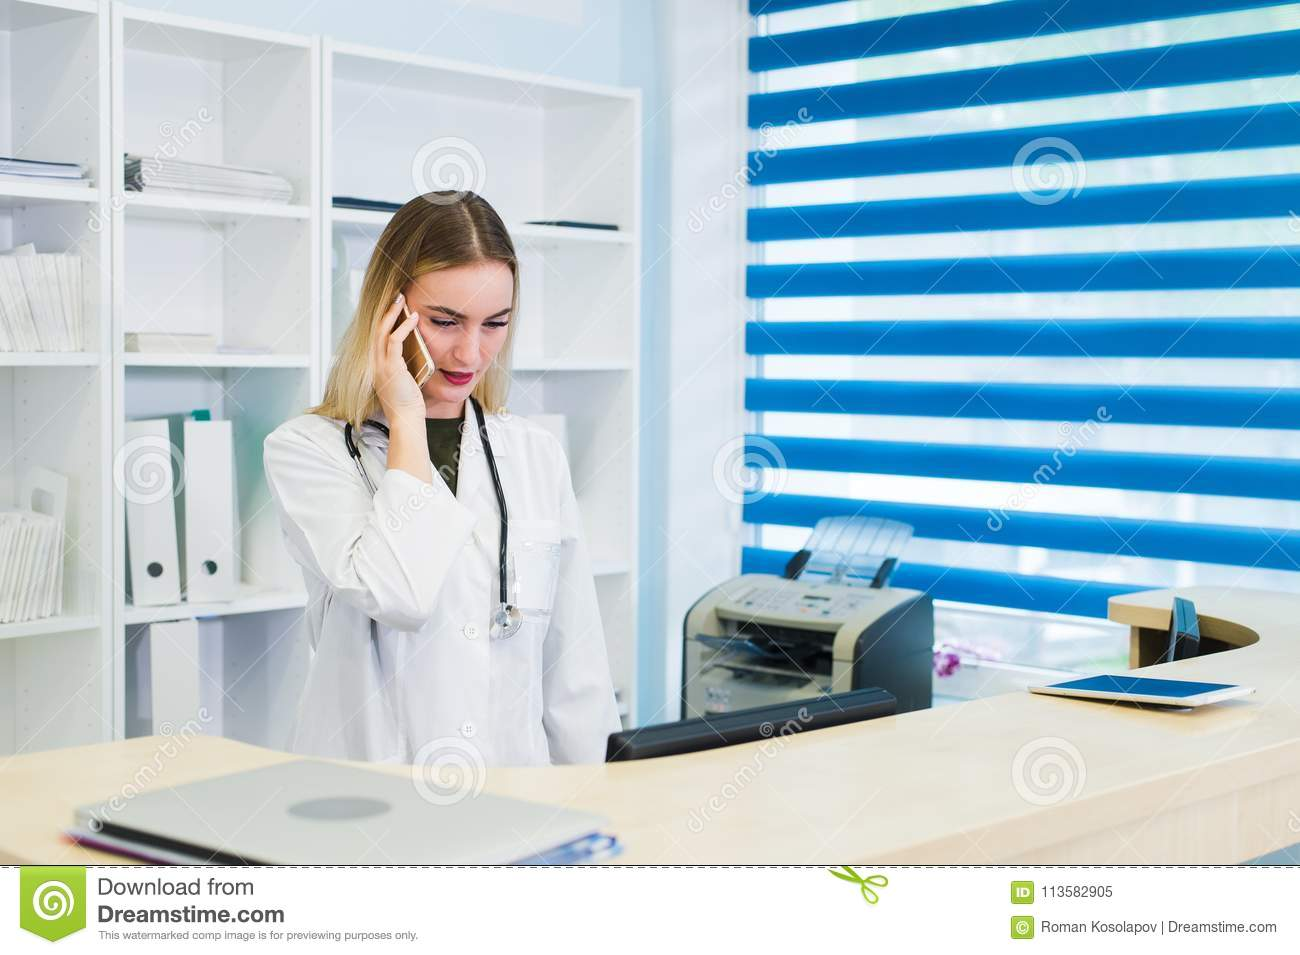phone: (382, 284, 441, 406)
talk: (373, 281, 511, 440)
